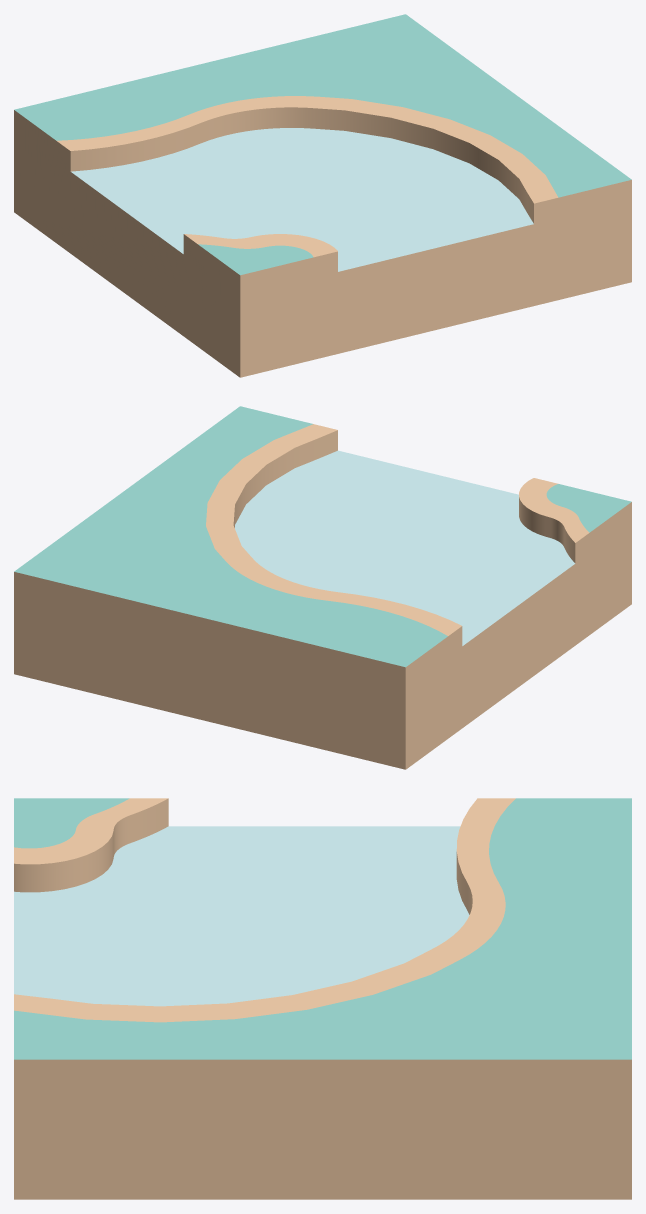
File: ground_dirtRiverCorner.glb
3 views of the same model, one above another, from view 1: azimuth 30°, elevation 25°; view 2: azimuth 150°, elevation 25°; view 3: azimuth 270°, elevation 25° (orthographic). The views are drawn at different scales.
Parts seen in each view (by area): view 1: ground_dirtRiverCorner; view 2: ground_dirtRiverCorner; view 3: ground_dirtRiverCorner.
Part boxes in pixels (x1,y1,x2,y2): ground_dirtRiverCorner: (14,14,631,377); ground_dirtRiverCorner: (14,406,631,769); ground_dirtRiverCorner: (14,798,631,1199).
Size of the model in its own units: 10 by 2.5 by 10.
